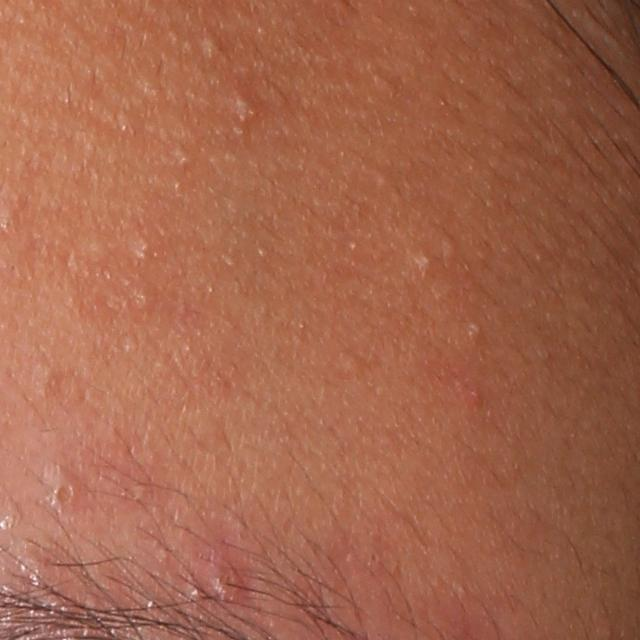comedo: (126, 282, 157, 321), (48, 480, 82, 512), (335, 349, 359, 375), (199, 32, 222, 59), (440, 236, 463, 263), (411, 248, 434, 271), (171, 144, 192, 169)
